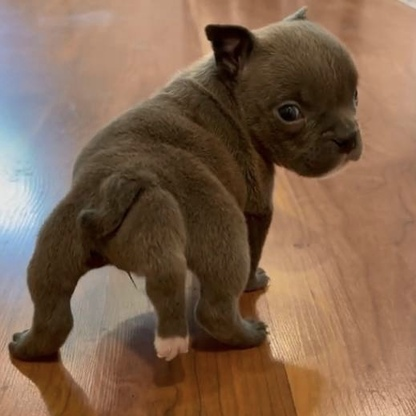bulldog: (10, 8, 365, 365)
